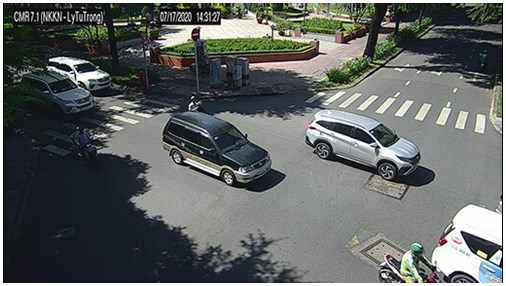xe_hoi: (161, 110, 272, 187), (305, 108, 420, 182), (20, 70, 95, 116), (45, 56, 112, 93)
xe_may: (378, 243, 443, 283), (71, 126, 103, 171), (477, 49, 490, 72)
xe_taxi: (431, 202, 502, 282)
